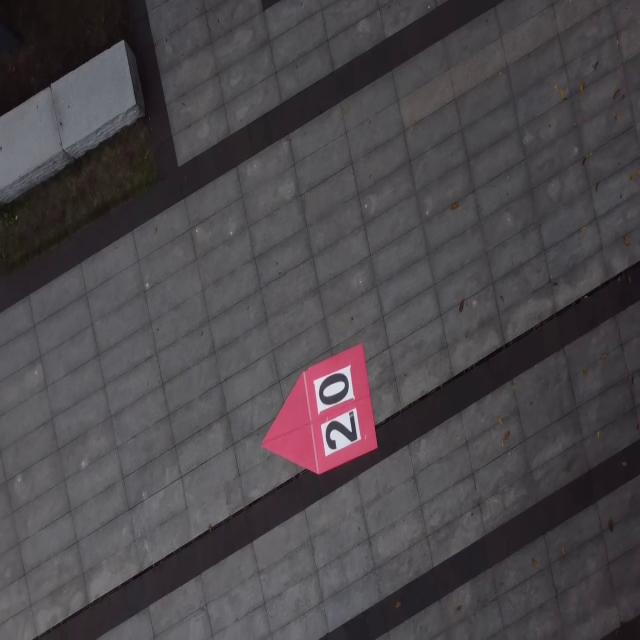-sign-: (260, 342, 378, 476)
